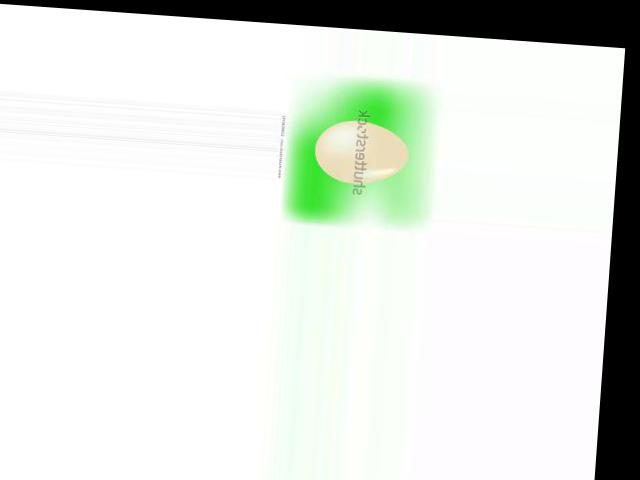egg: (313, 117, 410, 186)
